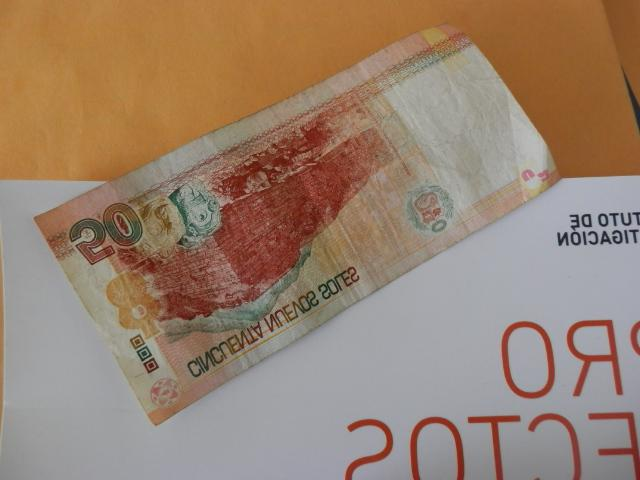B50: (34, 26, 561, 426)
